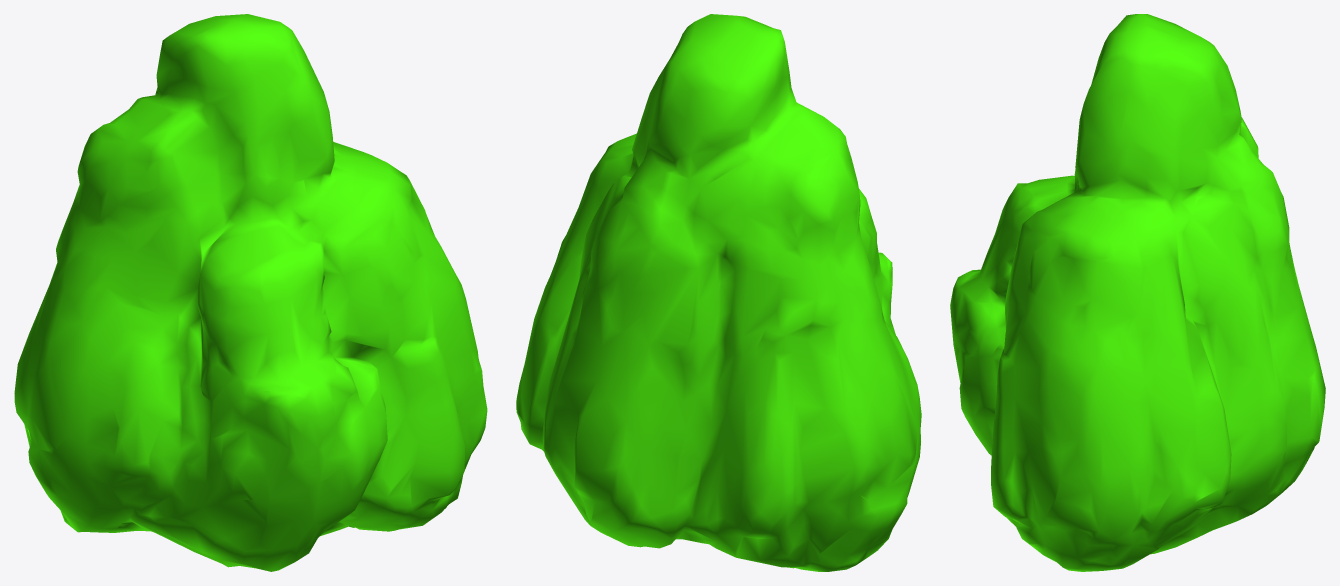
The model's file is Mesh_rock_1.fbx.
3 views of the same model, side by side, from view 1: azimuth 30°, elevation 25°; view 2: azimuth 150°, elevation 25°; view 3: azimuth 270°, elevation 25° (orthographic). The views are drawn at different scales.
Parts seen in each view (by area): view 1: Object001; view 2: Object001; view 3: Object001.
Boxes of the visible parts, x1=… form: Object001: x1=14, y1=14, x2=487, y2=571; Object001: x1=516, y1=14, x2=921, y2=571; Object001: x1=950, y1=14, x2=1325, y2=571.
Size of the model in its own units: 8.85 by 11.2 by 7.7.
